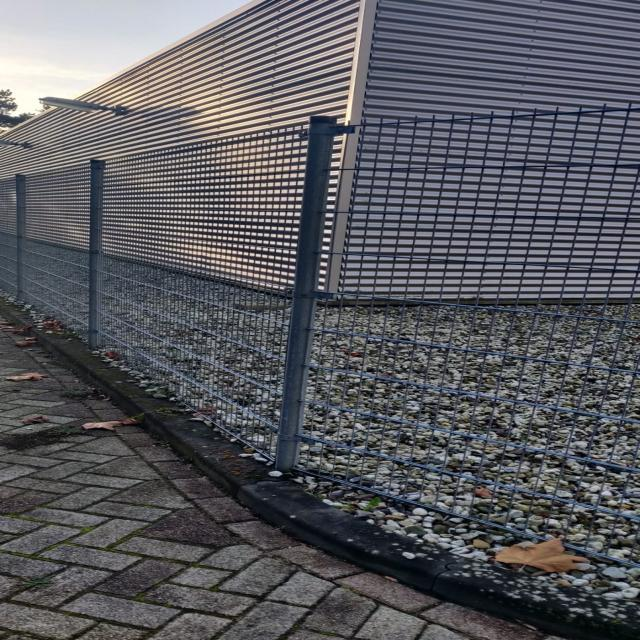fence line: (15, 157, 640, 559)
